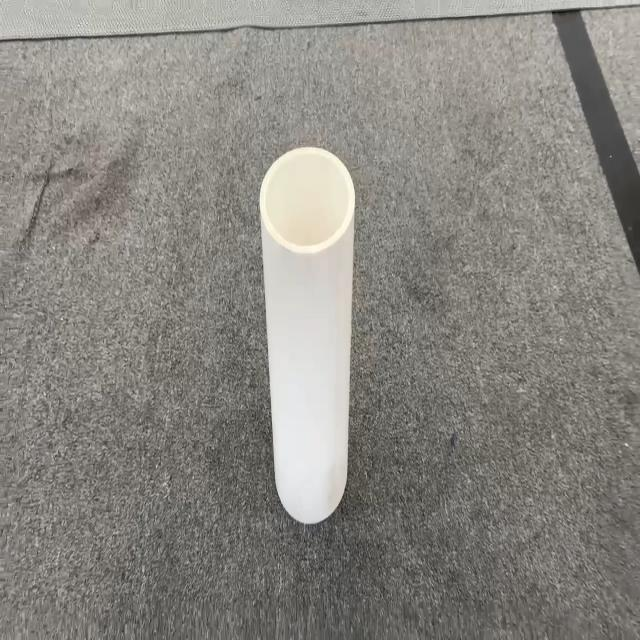coral: (258, 144, 356, 524)
